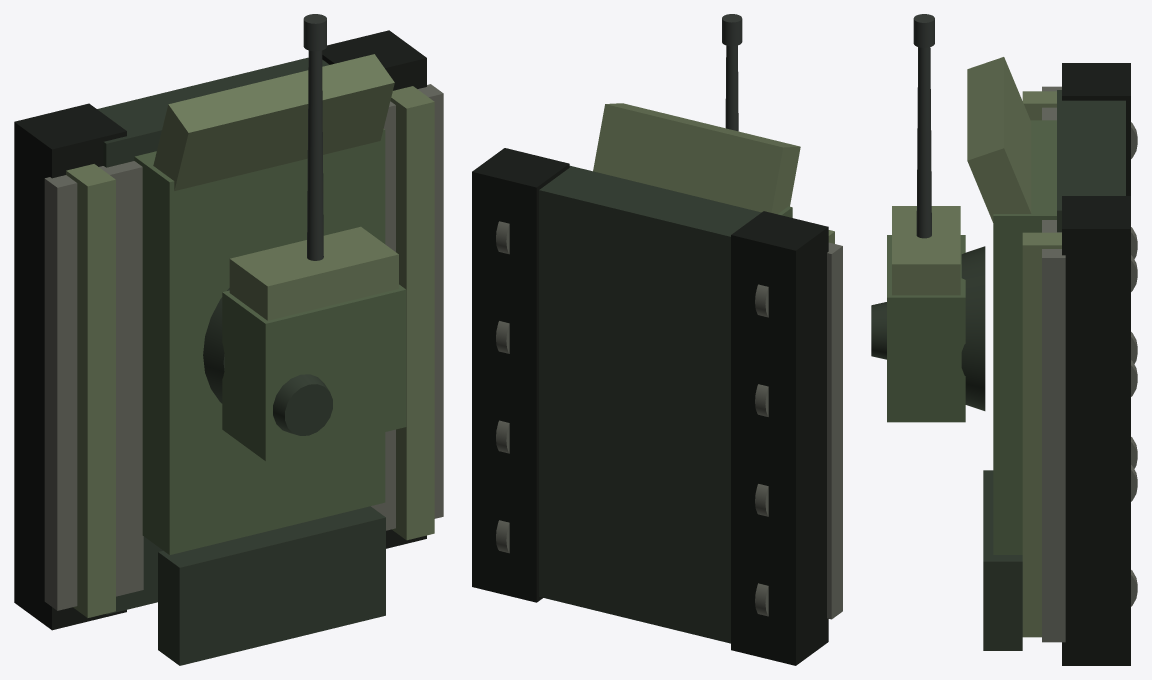
The picture shows the model from 3 angles, left to right: view 1: azimuth 30°, elevation 25°; view 2: azimuth 150°, elevation 25°; view 3: azimuth 270°, elevation 25°; orthographic projection. The views are drawn at different scales.
Visible parts, largest first — view 1: fast_hull_upper, left_track_guard, rear_engine_cover, prototype_turret_core, left_track_rubber, sloped_front_plate, left_suspension_cover, right_suspension_cover, rounded_turret_front, right_track_guard, christie_hull_lower, right_track_rubber (+4 smaller); view 2: christie_hull_lower, left_track_rubber, right_track_rubber, sloped_front_plate, left_track_guard, barrel_tube, muzzle_collar; view 3: right_track_rubber, fast_hull_upper, prototype_turret_core, right_track_guard, sloped_front_plate, right_suspension_cover, christie_hull_lower, rounded_turret_front, rear_engine_cover, turret_ring, left_track_rubber, barrel_tube (+3 smaller).
Boxes of the visible parts, x1=… form: fast_hull_upper: x1=134, y1=129, x2=385, y2=554; left_track_guard: x1=44, y1=161, x2=143, y2=610; rear_engine_cover: x1=158, y1=506, x2=385, y2=665; prototype_turret_core: x1=222, y1=284, x2=406, y2=461; left_track_rubber: x1=14, y1=103, x2=126, y2=630; sloped_front_plate: x1=153, y1=54, x2=394, y2=190; left_suspension_cover: x1=66, y1=164, x2=115, y2=617; right_suspension_cover: x1=390, y1=86, x2=434, y2=540; rounded_turret_front: x1=229, y1=226, x2=398, y2=320; right_track_guard: x1=371, y1=84, x2=443, y2=530; christie_hull_lower: x1=97, y1=57, x2=329, y2=614; right_track_rubber: x1=322, y1=30, x2=426, y2=548; christie_hull_lower: x1=539, y1=165, x2=761, y2=643; left_track_rubber: x1=731, y1=211, x2=828, y2=665; right_track_rubber: x1=472, y1=148, x2=569, y2=602; sloped_front_plate: x1=593, y1=103, x2=800, y2=214; left_track_guard: x1=827, y1=242, x2=842, y2=619; barrel_tube: x1=725, y1=45, x2=738, y2=131; muzzle_collar: x1=722, y1=14, x2=742, y2=46; right_track_rubber: x1=1062, y1=196, x2=1130, y2=665; fast_hull_upper: x1=993, y1=120, x2=1056, y2=554; prototype_turret_core: x1=887, y1=235, x2=965, y2=422; right_track_guard: x1=1042, y1=220, x2=1065, y2=642; sloped_front_plate: x1=967, y1=57, x2=1031, y2=222; right_suspension_cover: x1=1022, y1=232, x2=1061, y2=637; christie_hull_lower: x1=1057, y1=90, x2=1125, y2=232; rounded_turret_front: x1=892, y1=206, x2=960, y2=295; rear_engine_cover: x1=983, y1=470, x2=1022, y2=650; turret_ring: x1=961, y1=246, x2=985, y2=410; left_track_rubber: x1=1062, y1=63, x2=1130, y2=195; barrel_tube: x1=916, y1=47, x2=931, y2=238.
Size of the model in its own units: 41.2 by 65.8 by 27.1.
